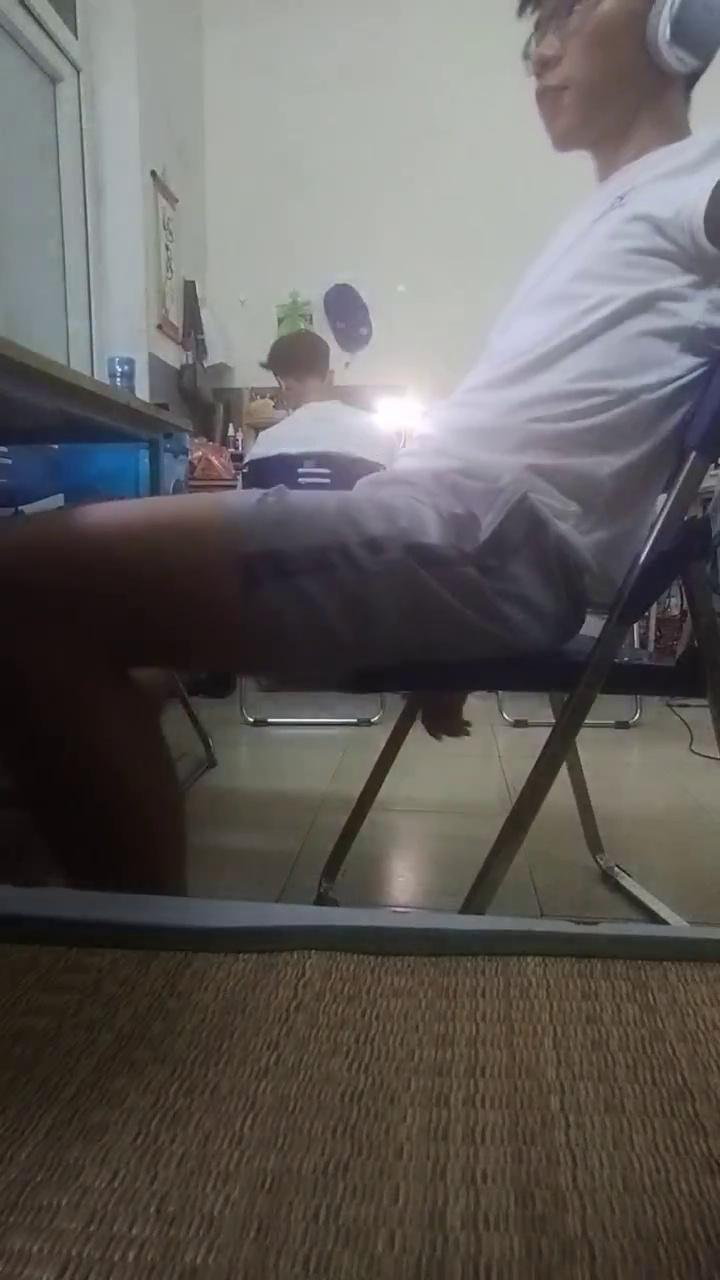BadPosture: (0, 0, 719, 894)
